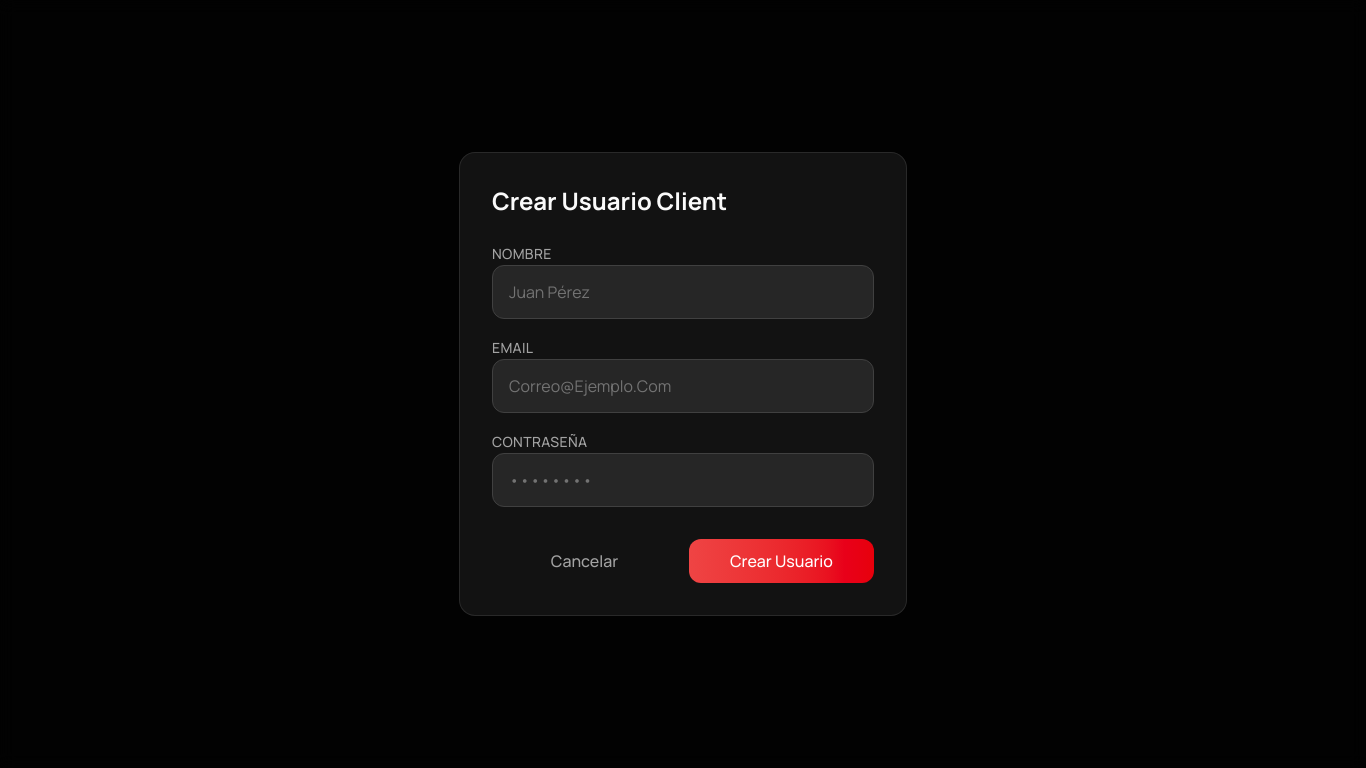
Scenario: CreateClientModal › shows validation errors for empty fields
Click the button "Crear Usuario". click: coordinates (782, 561)
box: [689,539,874,583]
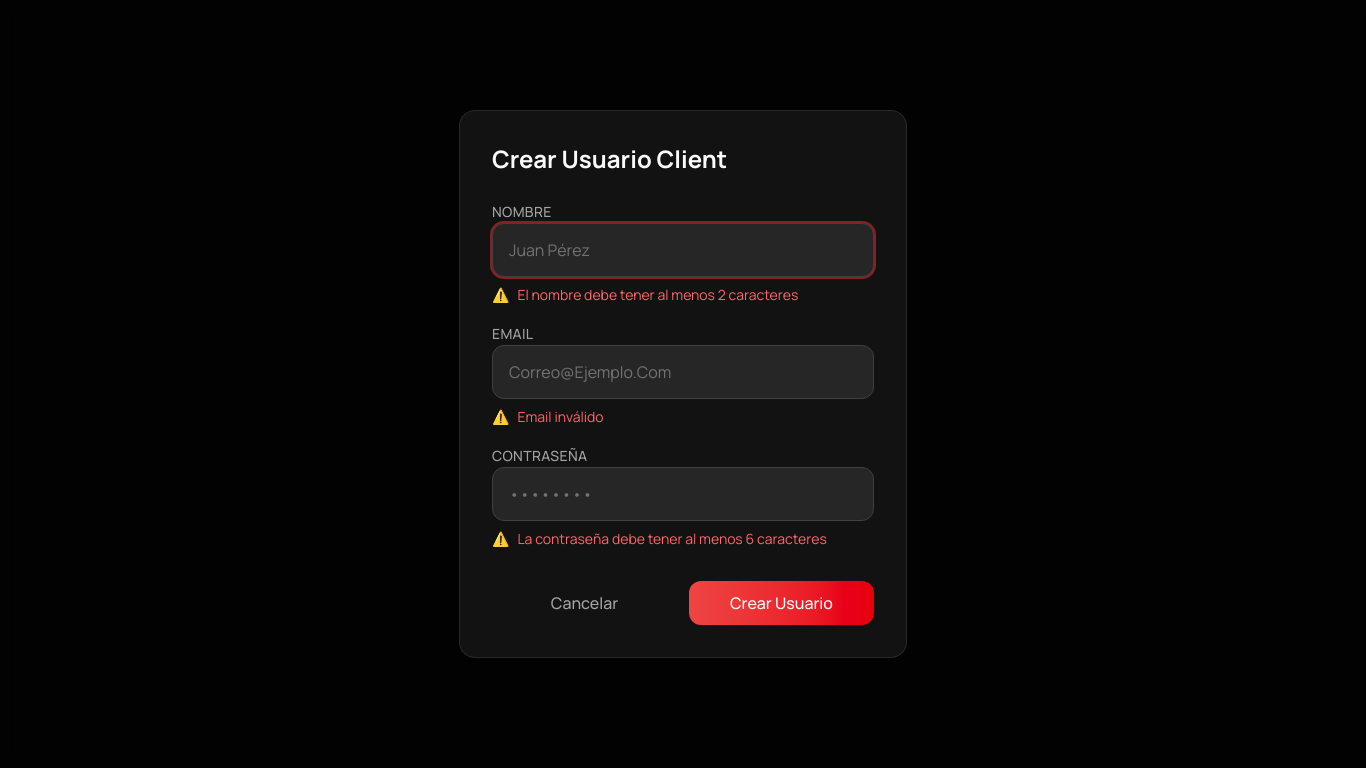
Expected: the text "El nombre debe tener al menos 2 caracteres" is shown, [518,285,798,304]
Expected: the text "Email inválido" is shown, [518,407,604,426]
Expected: the text "La contraseña debe tener al menos 6 caracteres" is shown, [518,529,827,548]
